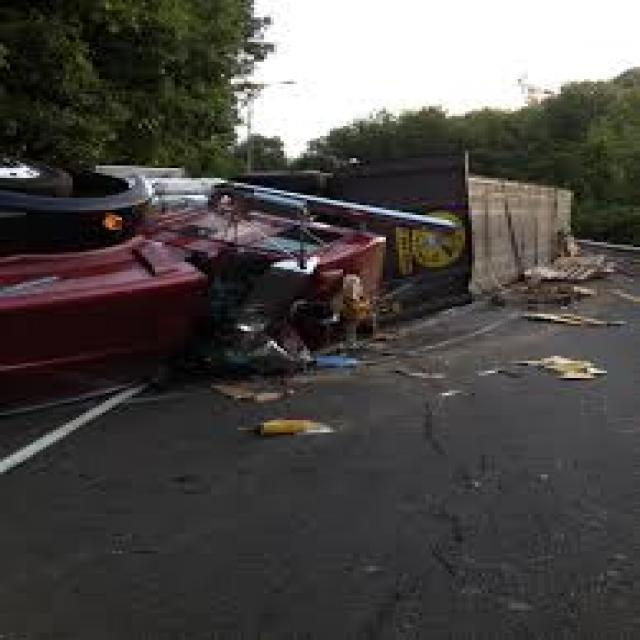accident: (0, 157, 614, 385)
